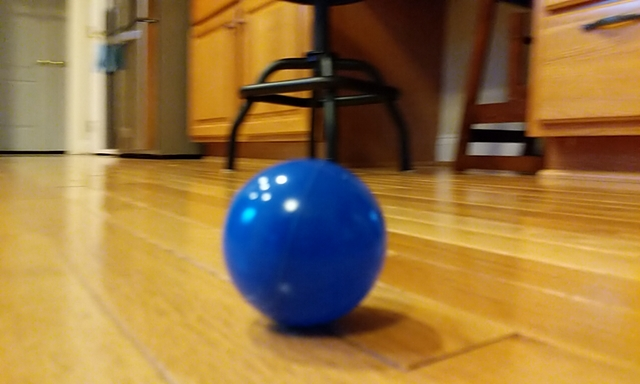Ball: (221, 163, 384, 329)
